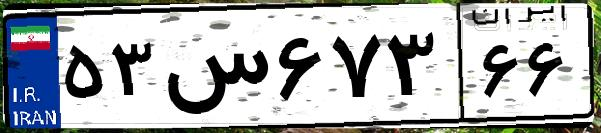3: (385, 28, 445, 110), (110, 28, 158, 98)
5: (57, 26, 110, 100)
6: (270, 28, 330, 110), (475, 38, 525, 113), (525, 38, 570, 115)
7: (330, 28, 385, 110)
س: (158, 20, 270, 120)
